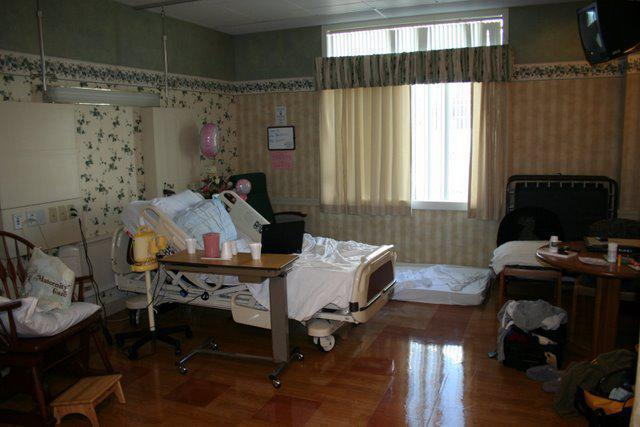Cama: (112, 181, 415, 337), (395, 256, 493, 309)
Otro Obstaculo: (496, 293, 570, 379), (569, 345, 635, 420)
Ventana: (322, 62, 488, 214)
